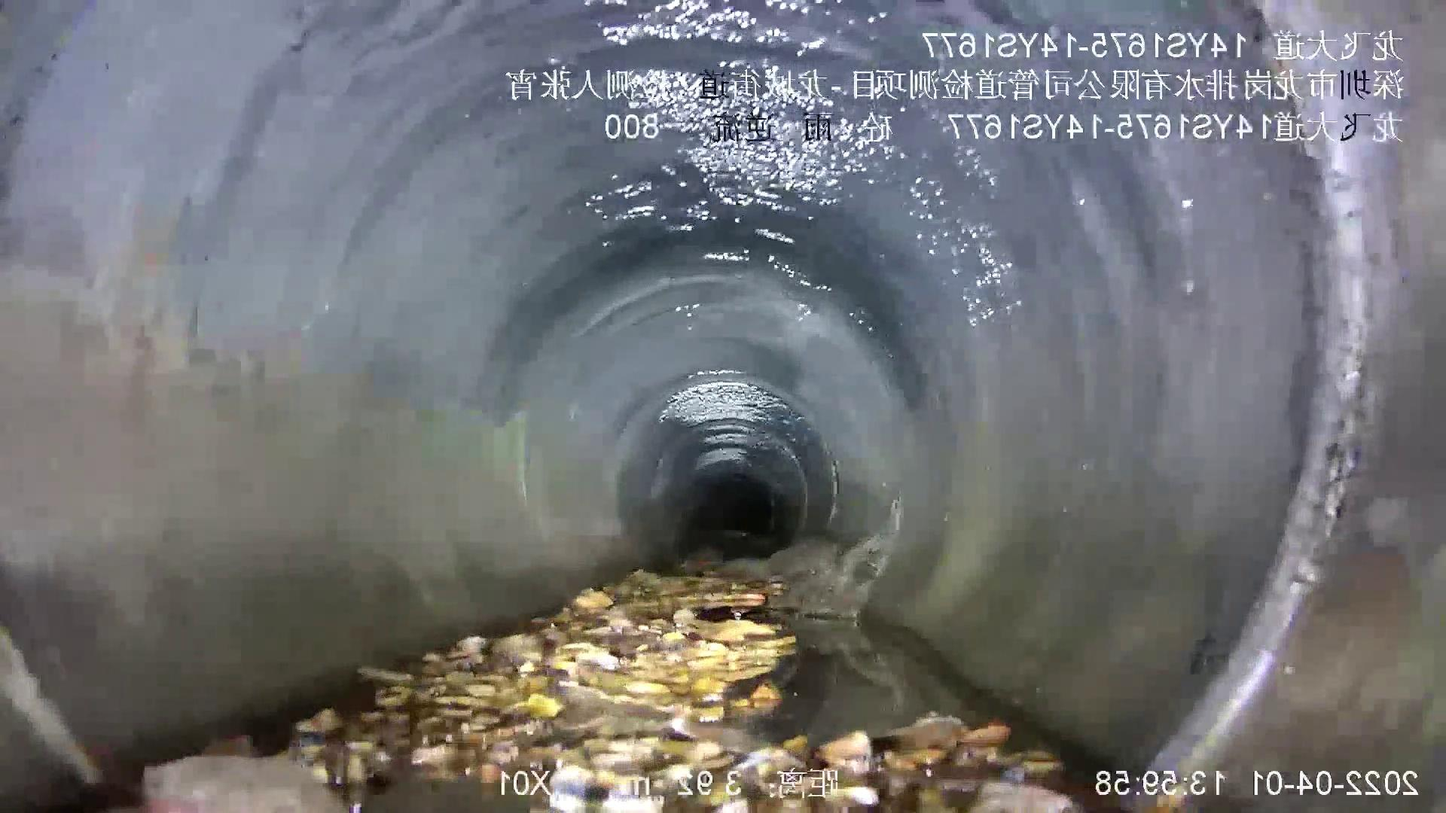CJ: (143, 537, 1078, 812)
